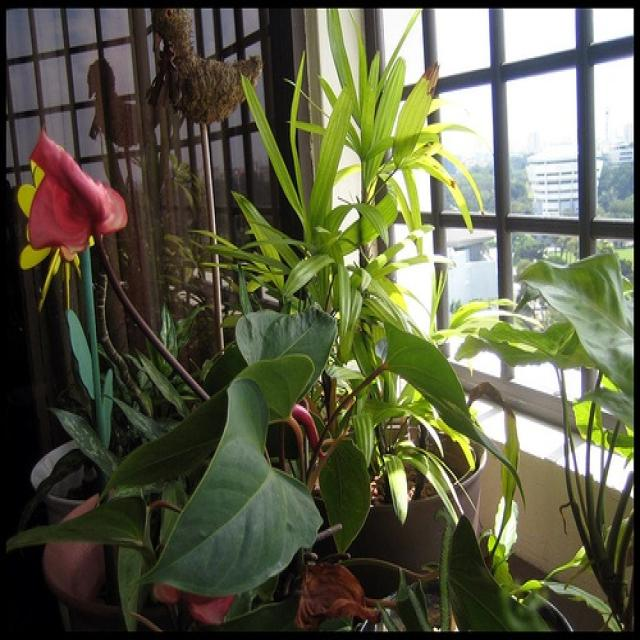pottedplant: (243, 76, 466, 566), (358, 253, 634, 632), (44, 305, 314, 630), (23, 126, 129, 633)
